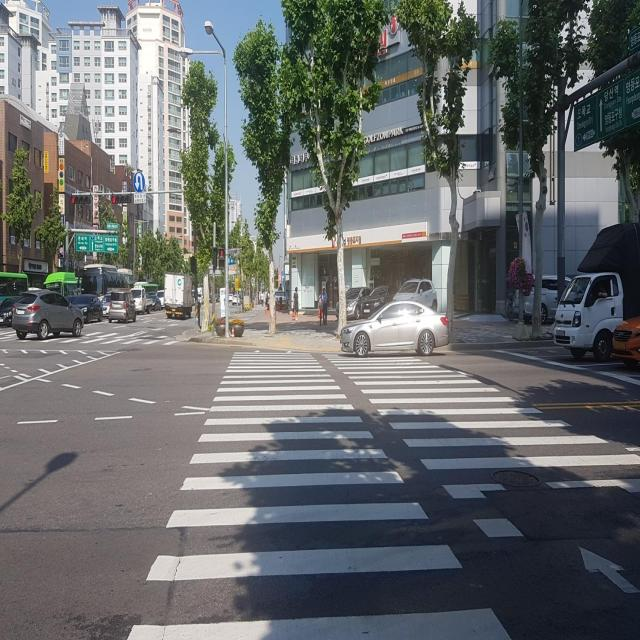빨간불: (219, 248, 225, 270)
횡단보도: (130, 346, 640, 640), (0, 326, 191, 351)
